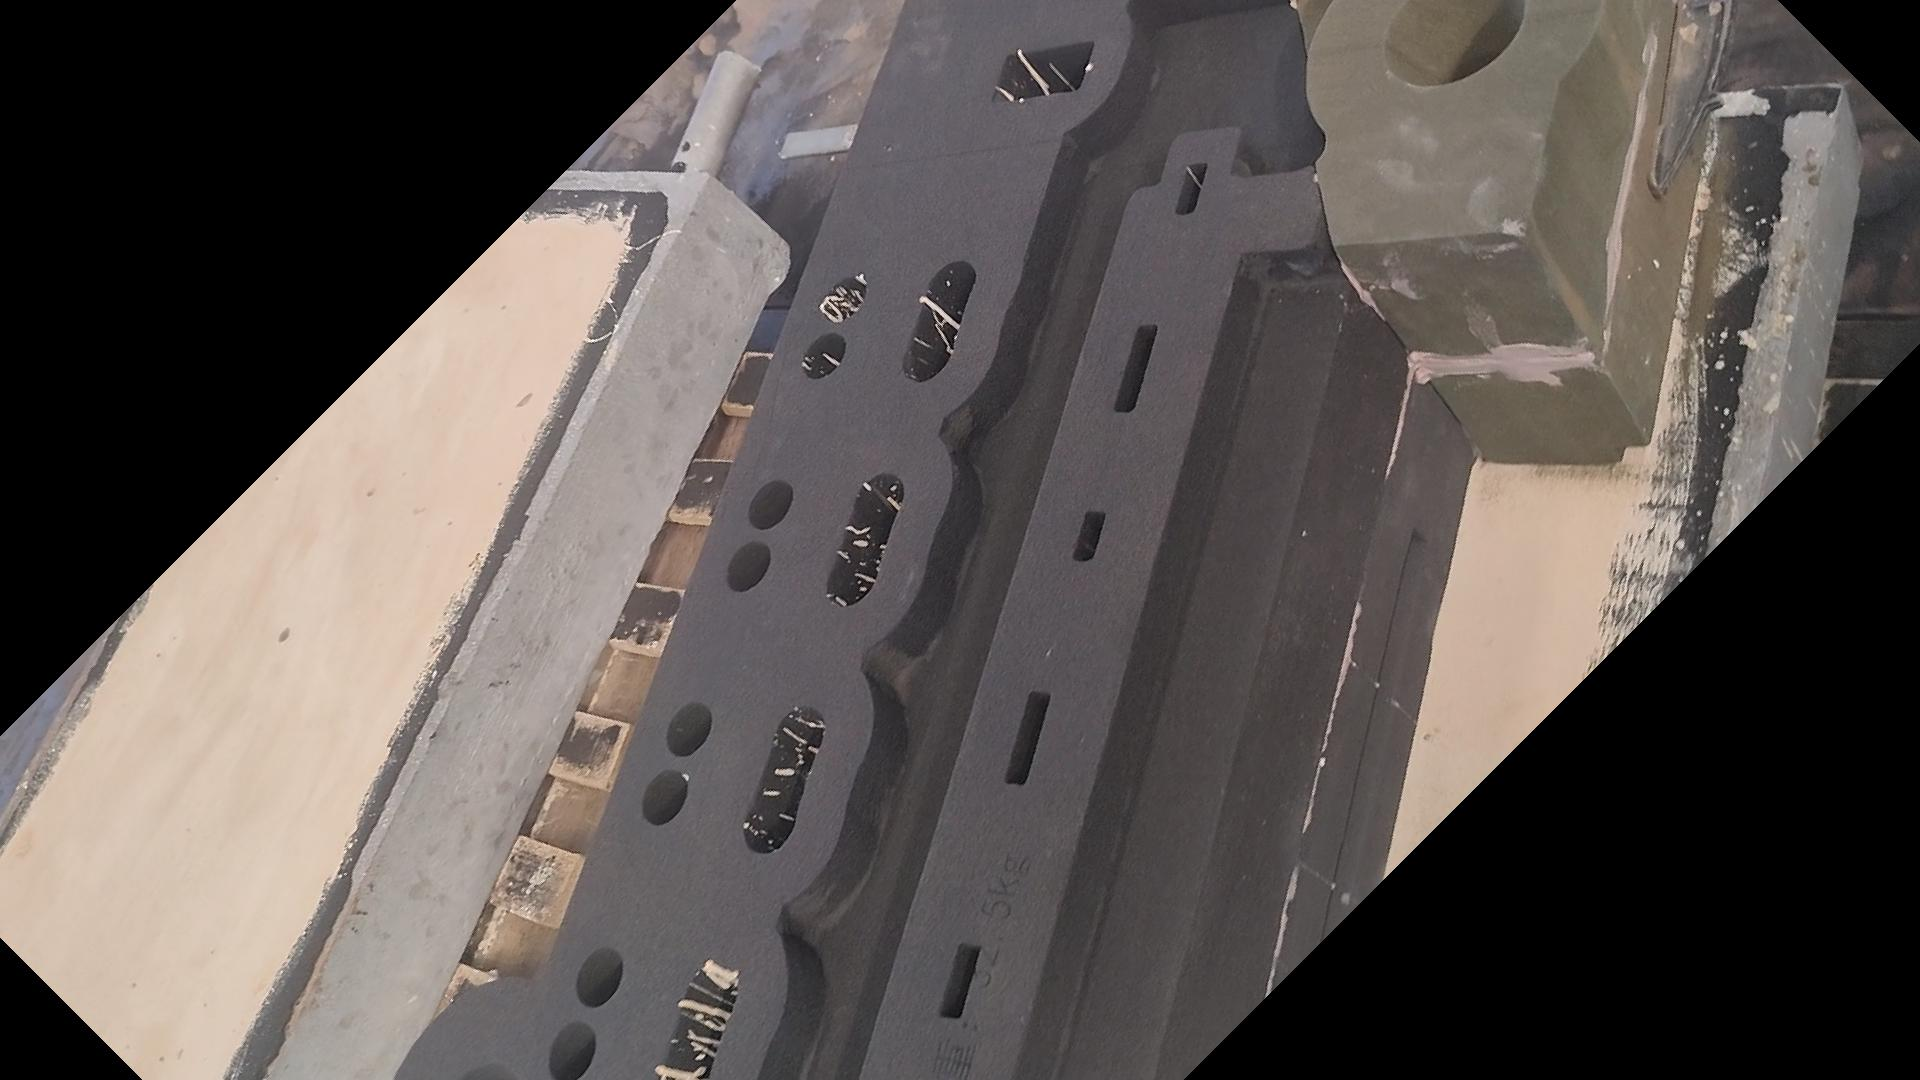pouring hole: (1379, 1, 1523, 86), (456, 1062, 517, 1080)
